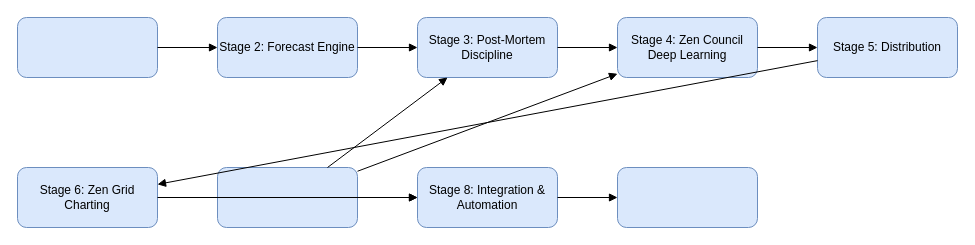
Some shapes in this 975 by 245 pixel diagram are drawn without their labels. Each missing label, with the box of its shape:
Stage 1: Data Ingestion (Snowflake): (16, 16, 158, 78)
Stage 7: Expanded Data (Options & Macro/News): (216, 166, 358, 228)
Stage 9: Beta Testing (Capstone): (616, 166, 758, 228)
